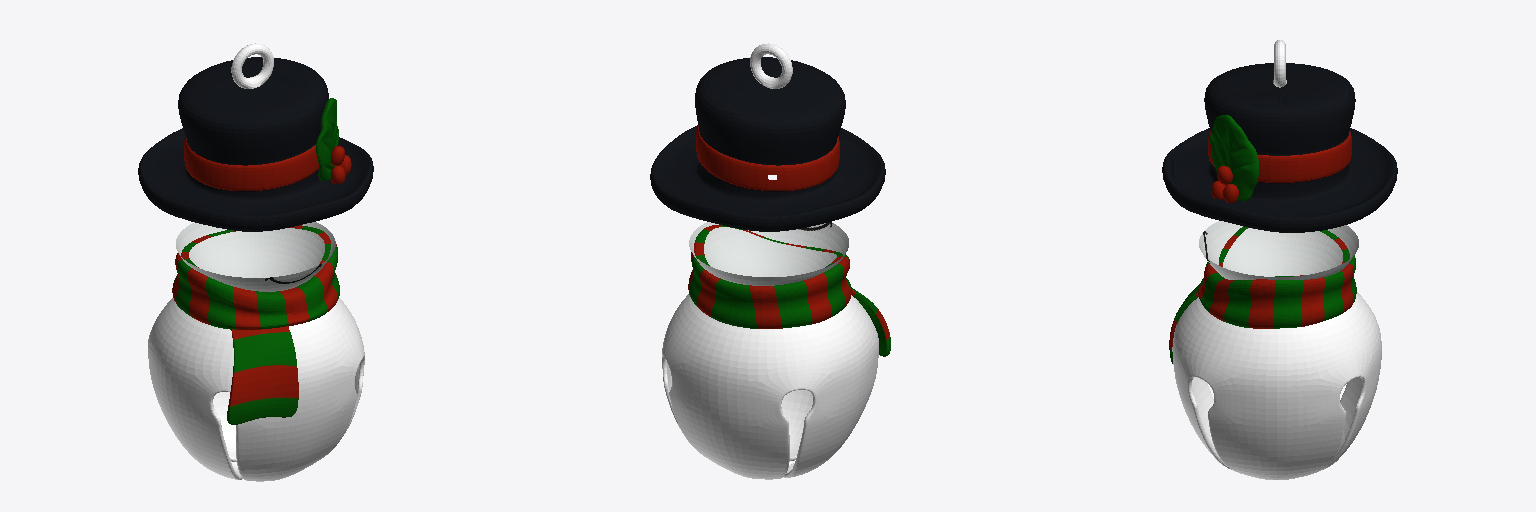
The picture shows the model from 3 angles: view 1: azimuth 30°, elevation 25°; view 2: azimuth 150°, elevation 25°; view 3: azimuth 270°, elevation 25°; orthographic projection.
Visible parts, largest first — view 1: 11581_Snowman_V2_l3.001; view 2: 11581_Snowman_V2_l3.001; view 3: 11581_Snowman_V2_l3.001.
Boxes of the visible parts, <box> form: 11581_Snowman_V2_l3.001: <box>138,43,373,481</box>; 11581_Snowman_V2_l3.001: <box>650,43,890,479</box>; 11581_Snowman_V2_l3.001: <box>1162,40,1397,479</box>.
Size of the model in its own units: 4.96 by 9.87 by 4.96.
2 materials, 1 textured.